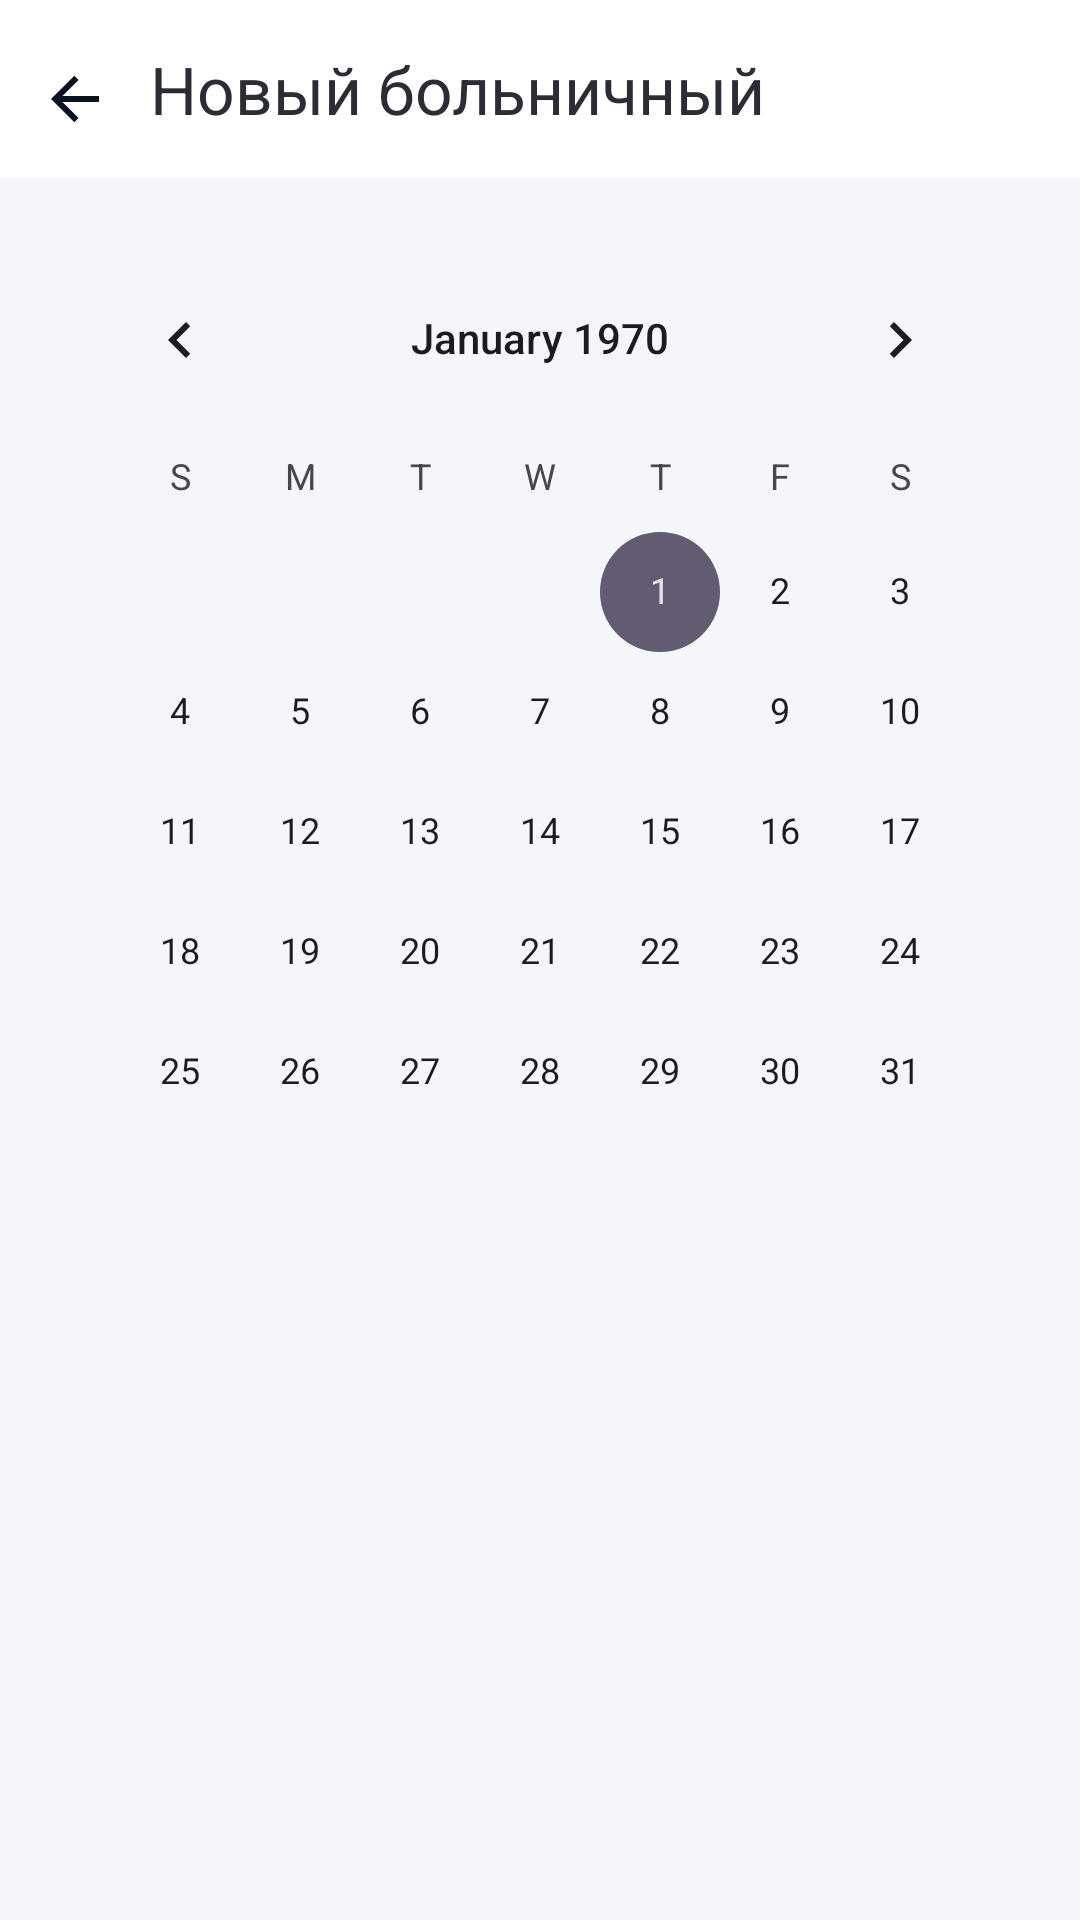

Where to tap for icons on this 1080*1920 app screen, as [x,y]:
left arrow: [75,99]
